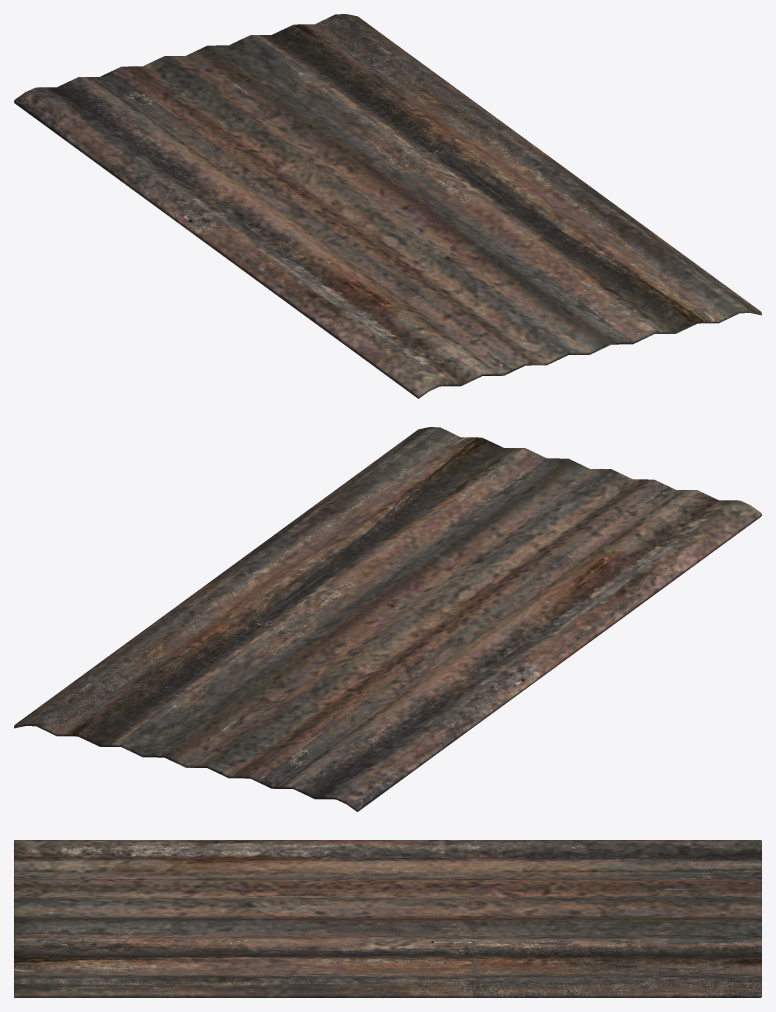
Rendered from CorrugatedIron.fbx.
3 renders of one model, top to bottom at view 1: azimuth 30°, elevation 25°; view 2: azimuth 150°, elevation 25°; view 3: azimuth 270°, elevation 25°, orthographic. The views are drawn at different scales.
Visible parts, largest first — view 1: Cube; view 2: Cube; view 3: Cube.
Part boxes in pixels (bbox=[...]): Cube: bbox=[14, 14, 761, 398]; Cube: bbox=[14, 427, 761, 811]; Cube: bbox=[14, 840, 761, 997].
Bounding box in the file's own units: 2.67 × 0.0803 × 5.44.
